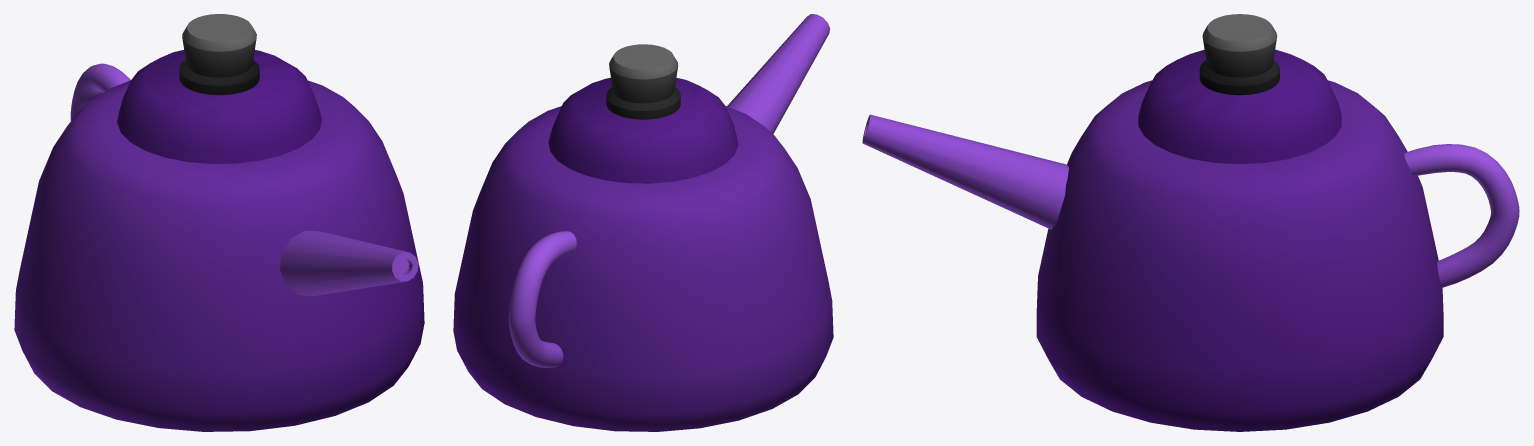
Rendered from Tea Pot_1.fbx.
3 renders of one model, left to right at view 1: azimuth 30°, elevation 25°; view 2: azimuth 150°, elevation 25°; view 3: azimuth 270°, elevation 25°, orthographic. The views are drawn at different scales.
Parts seen in each view (by area): view 1: Tea Pot_1, Tea Pot_1 Top; view 2: Tea Pot_1, Tea Pot_1 Top; view 3: Tea Pot_1, Tea Pot_1 Top.
Part boxes in pixels (box(x1,y1,x2,y2)): Tea Pot_1: box(14, 63, 424, 431); Tea Pot_1 Top: box(117, 14, 321, 163); Tea Pot_1: box(453, 14, 833, 431); Tea Pot_1 Top: box(548, 44, 738, 183); Tea Pot_1: box(862, 80, 1519, 431); Tea Pot_1 Top: box(1138, 14, 1341, 164).
Bounding box in the file's own units: 0.2122 × 0.189 × 0.3401.
